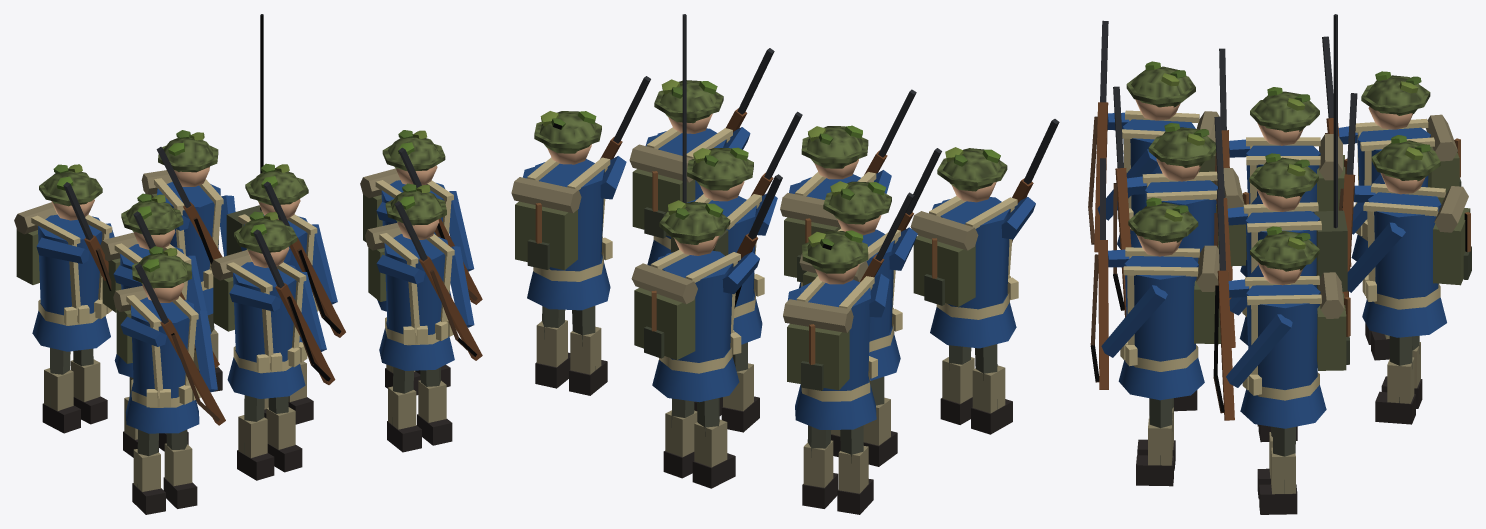
The model's file is squad_dl6_blue.glb.
The picture shows the model from 3 angles, left to right: view 1: azimuth 30°, elevation 25°; view 2: azimuth 150°, elevation 25°; view 3: azimuth 270°, elevation 25°; orthographic projection. The views are drawn at different scales.
Visible parts, largest first — view 1: squad_dl6_blue; view 2: squad_dl6_blue; view 3: squad_dl6_blue.
Boxes of the visible parts, x1,y1,x2,y2 form: squad_dl6_blue: [14, 14, 482, 514]; squad_dl6_blue: [511, 14, 1059, 514]; squad_dl6_blue: [1088, 14, 1471, 514].
Size of the model in its own units: 0.6457 by 0.589 by 0.4899.
1 material, 1 textured.
